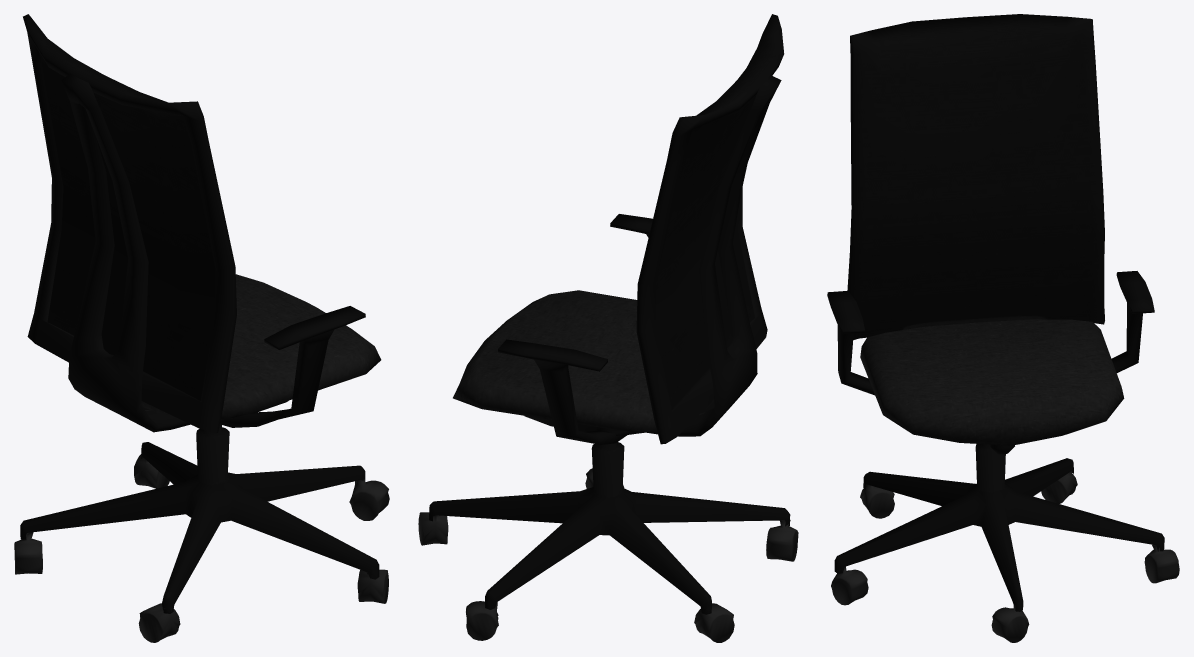
The model's file is chair.glb.
3 views of the same model, side by side, from view 1: azimuth 30°, elevation 25°; view 2: azimuth 150°, elevation 25°; view 3: azimuth 270°, elevation 25° (orthographic). The views are drawn at different scales.
Parts seen in each view (by area): view 1: OfficeChair; view 2: OfficeChair; view 3: OfficeChair.
Boxes of the visible parts, box(x1,y1,x2,y2) form: OfficeChair: box(14, 14, 389, 642); OfficeChair: box(418, 14, 798, 642); OfficeChair: box(827, 14, 1179, 642).
Size of the model in its own units: 0.7058 by 1.05 by 0.6846.
Materials: 2 (1 with a texture image).
